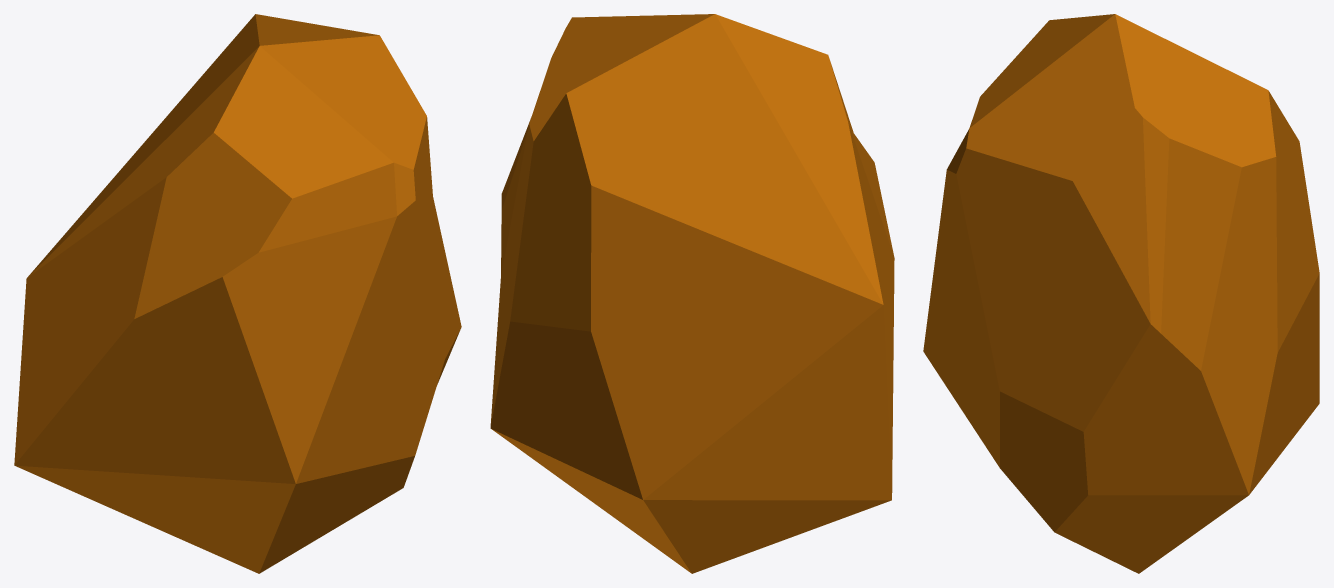
The model's file is kamienPustynia 1.fbx.
3 views of the same model, side by side, from view 1: azimuth 30°, elevation 25°; view 2: azimuth 150°, elevation 25°; view 3: azimuth 270°, elevation 25° (orthographic). The views are drawn at different scales.
Visible parts, largest first — view 1: Icosphere; view 2: Icosphere; view 3: Icosphere.
Part boxes in pixels (<box>): Icosphere: <box>14,14,461,573</box>; Icosphere: <box>490,14,894,573</box>; Icosphere: <box>923,14,1319,573</box>.
Size of the model in its own units: 218 by 282 by 182.
